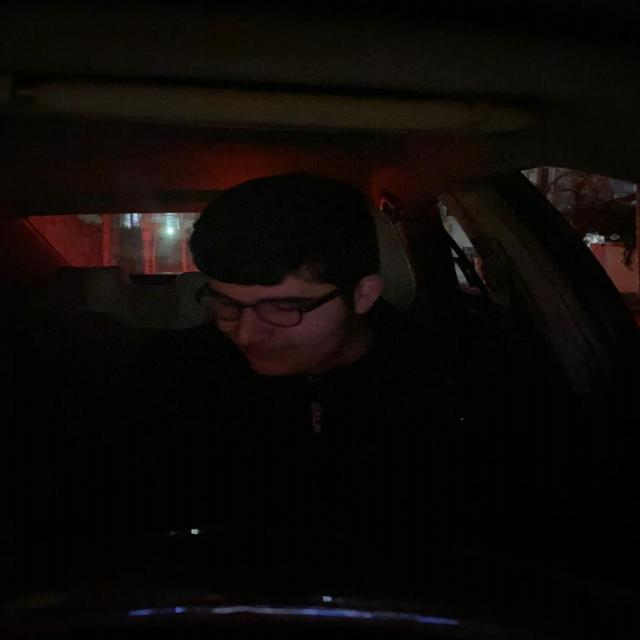drowsy: (181, 162, 394, 390)
